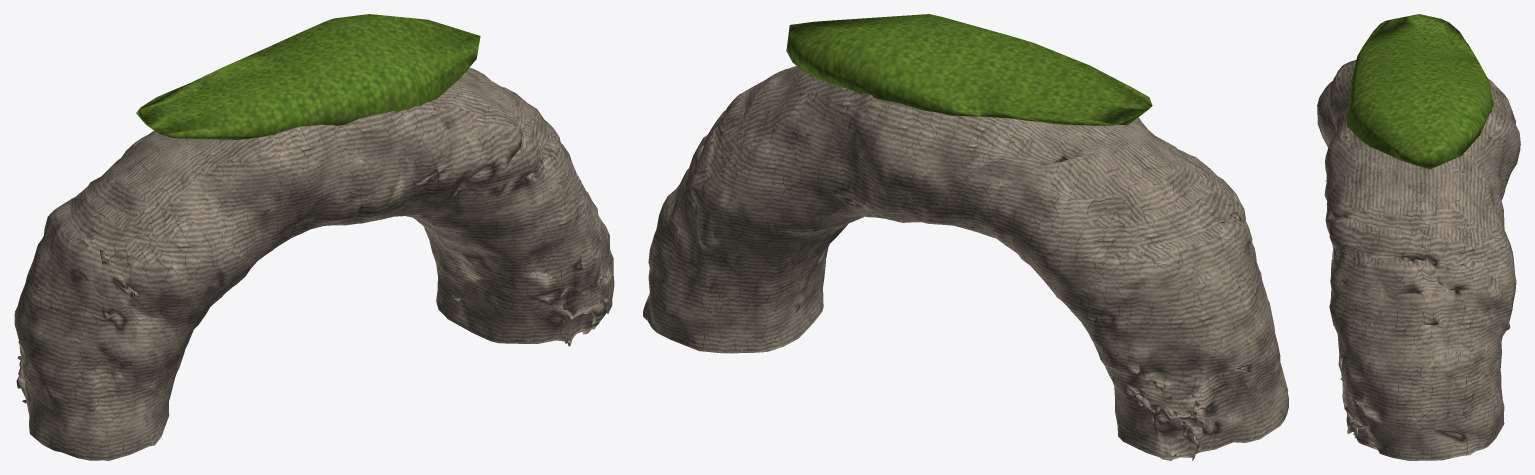
The model's file is rock_arch.glb.
The picture shows the model from 3 angles, left to right: view 1: azimuth 30°, elevation 25°; view 2: azimuth 150°, elevation 25°; view 3: azimuth 270°, elevation 25°; orthographic projection. The views are drawn at different scales.
Visible parts, largest first — view 1: rock_arch_Rock; view 2: rock_arch_Rock; view 3: rock_arch_Rock.
Part boxes in pixels (x1,y1,x2,y2): rock_arch_Rock: (14, 14, 614, 460); rock_arch_Rock: (643, 14, 1288, 460); rock_arch_Rock: (1317, 14, 1520, 460).
Bounding box in the file's own units: 13.85 × 7.37 × 4.8.
2 materials, 2 textured.
